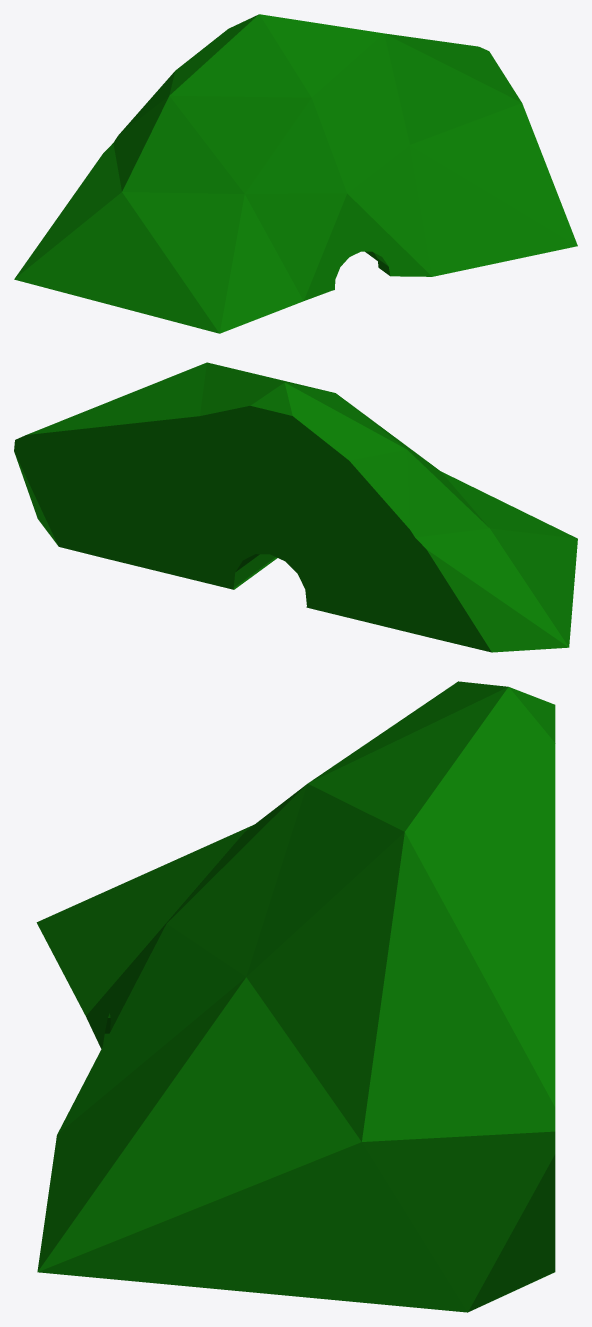
Rendered from Montaña.fbx.
3 renders of one model, top to bottom at view 1: azimuth 30°, elevation 25°; view 2: azimuth 150°, elevation 25°; view 3: azimuth 270°, elevation 25°, orthographic. The views are drawn at different scales.
Parts seen in each view (by area): view 1: Icosphere.002; view 2: Icosphere.002; view 3: Icosphere.002.
Boxes of the visible parts, <box> form: Icosphere.002: <box>14,14,577,333</box>; Icosphere.002: <box>14,362,577,652</box>; Icosphere.002: <box>36,681,555,1312</box>.
Bounding box in the file's own units: 12238 × 4574 × 5513.
